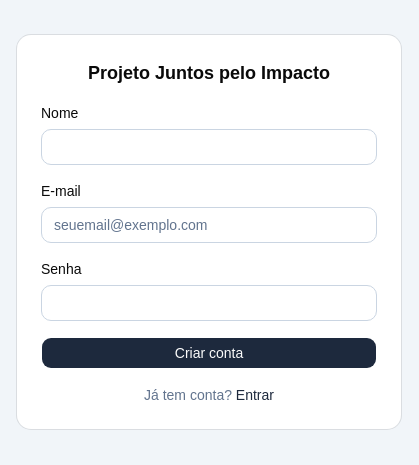
Test: SignUpPage › shows 403 as "Cadastro desabilitado no momento"
Type "Ana" into the field labelled "Nome" at (209, 147), box [41, 129, 377, 165]
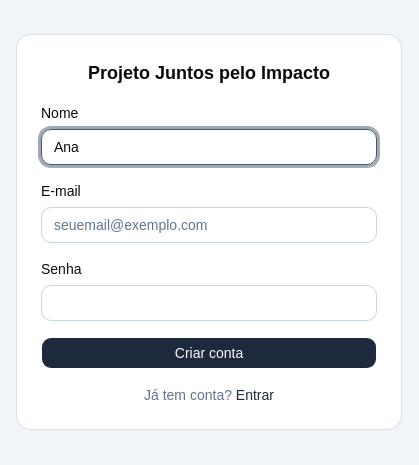
Type "ana@b.com" into the field labelled "E-mail" at (209, 225), box [41, 207, 377, 243]
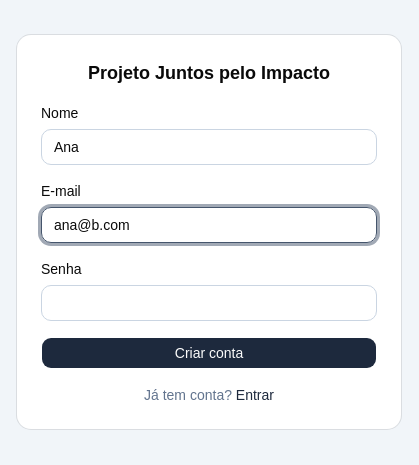
Type "senha123" into the password field labelled "Senha" at (209, 303), box [41, 285, 377, 321]
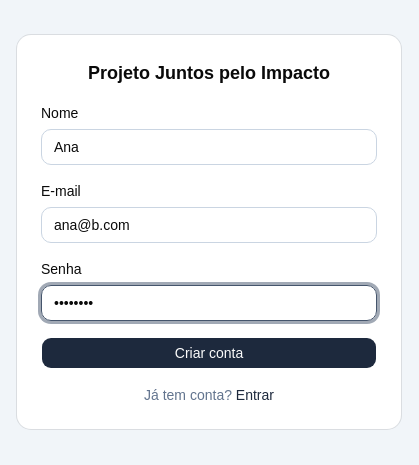
Click the button "Criar conta" at (209, 353), box [41, 337, 377, 369]
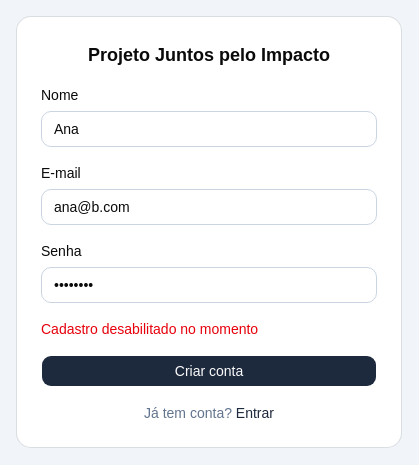
Result: the text "Cadastro desabilitado no momento" is shown at [41, 321, 258, 337]
